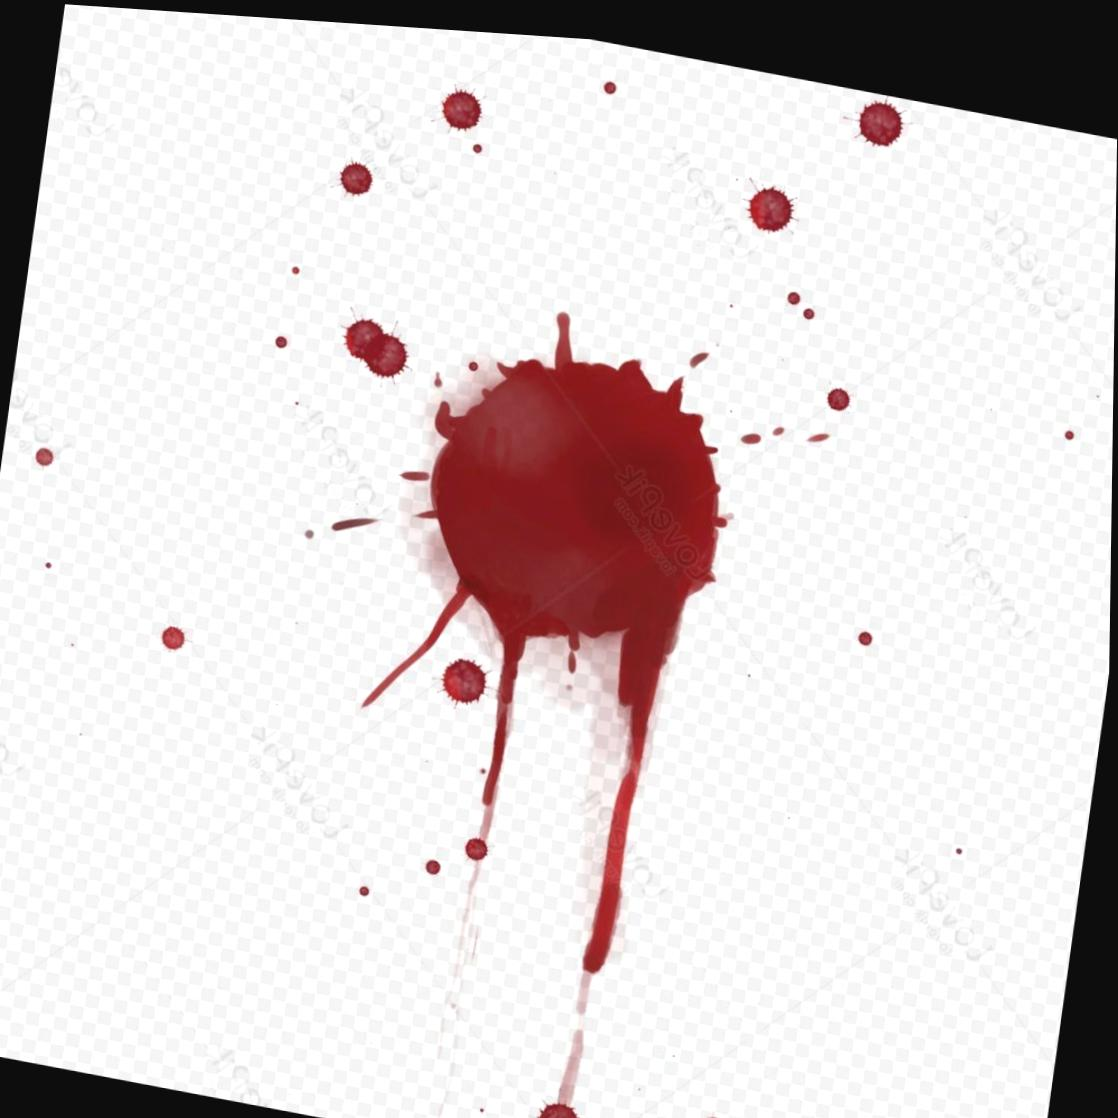Fire: (362, 302, 735, 965), (344, 312, 412, 372), (857, 85, 904, 133), (747, 175, 795, 221), (443, 651, 488, 697), (441, 81, 482, 123), (339, 155, 374, 189), (540, 1093, 586, 1118), (827, 375, 852, 398)
